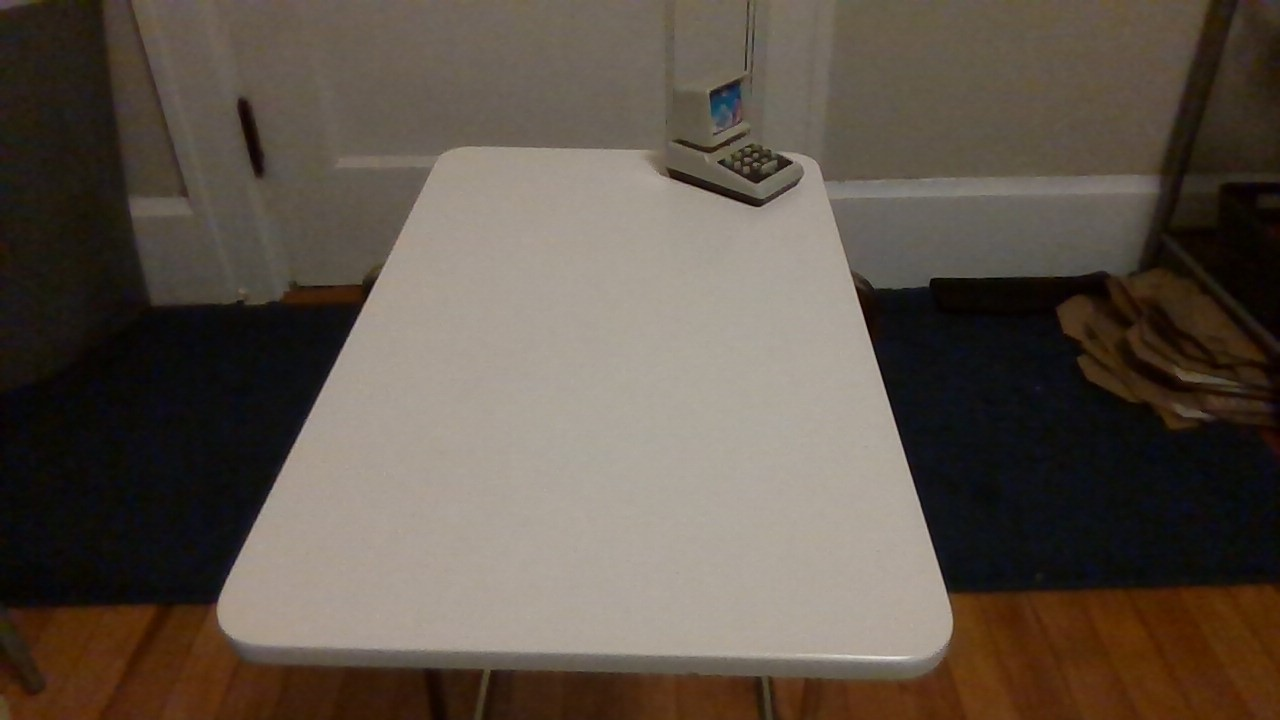Toy: (632, 41, 822, 224)
